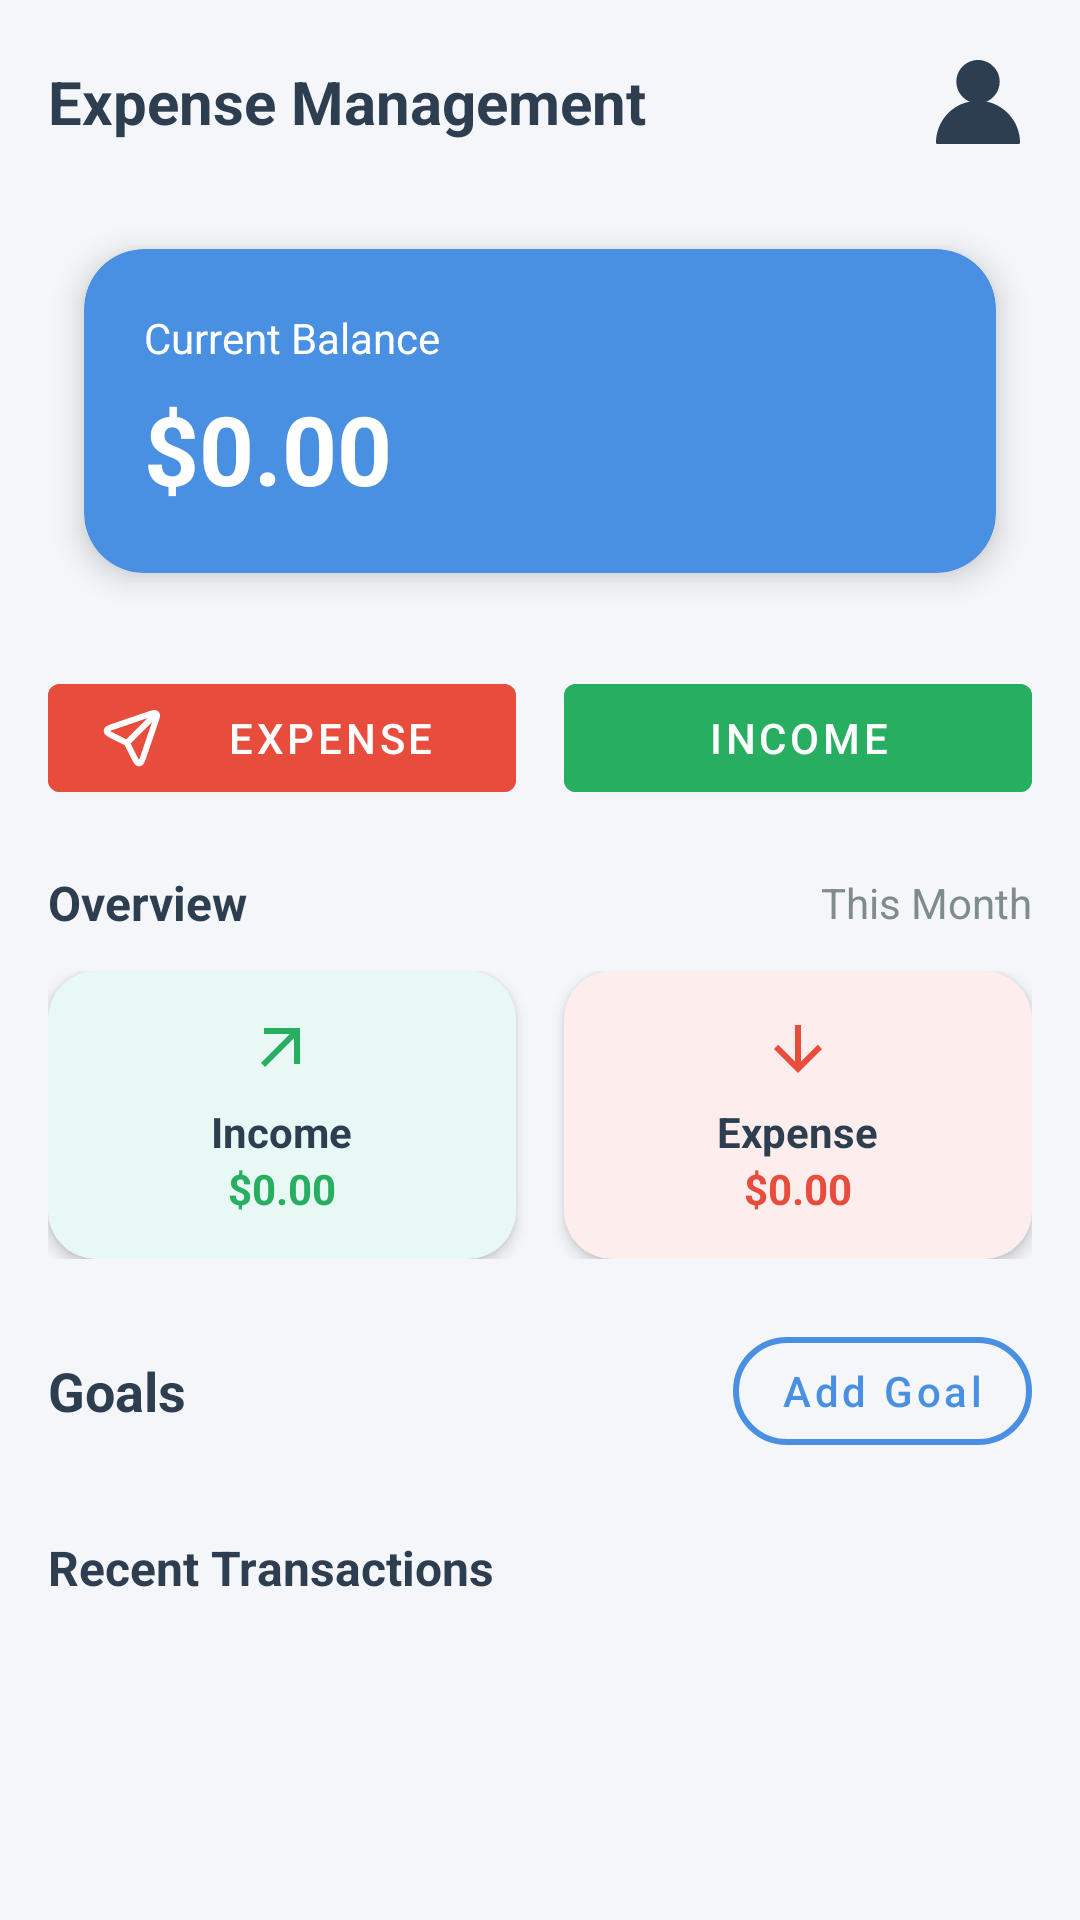

Screen size 1080px x 1920px. Icon name, then its box in pixels as [x1,y1,x2,y2]:
Profile: [936,60,1020,144]
spending: [774,1025,822,1073]
